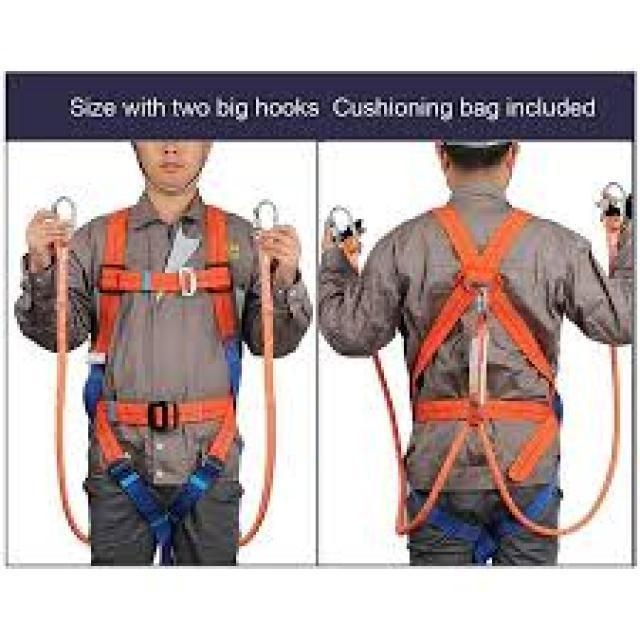Arnes_seguridad: (88, 199, 248, 522)
